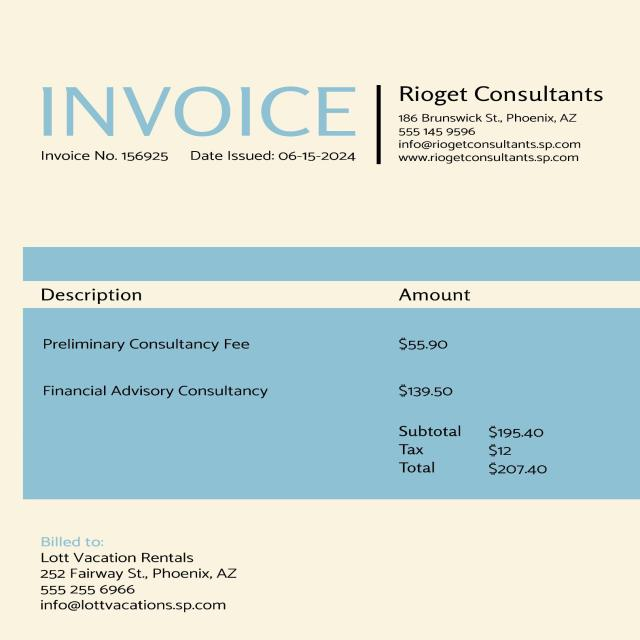paragraph: (17, 265, 586, 406), (29, 532, 264, 624), (26, 78, 366, 140), (391, 80, 612, 172), (381, 414, 571, 488), (187, 147, 363, 168), (38, 144, 179, 163)
